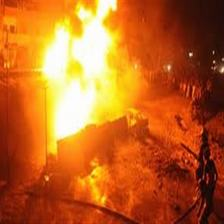fire: (29, 1, 143, 164)
